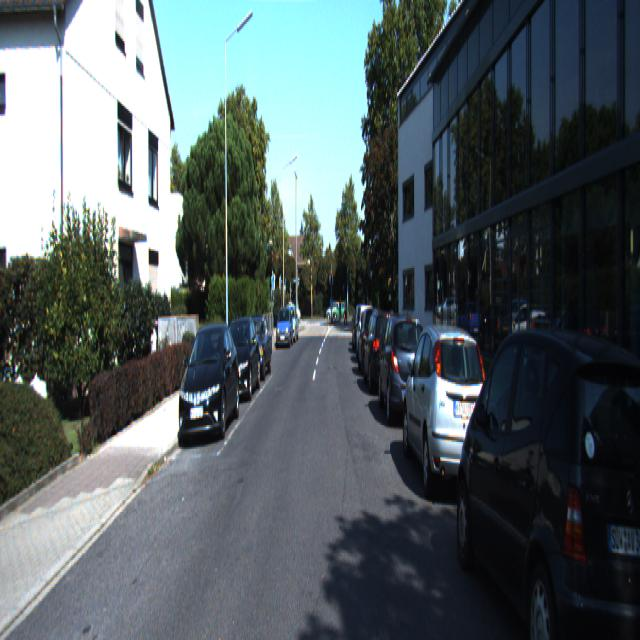Car: (454, 311, 640, 638), (402, 314, 494, 507), (177, 321, 241, 449), (377, 307, 430, 428), (218, 315, 262, 404), (362, 306, 402, 398), (238, 315, 274, 383), (276, 306, 293, 348)
